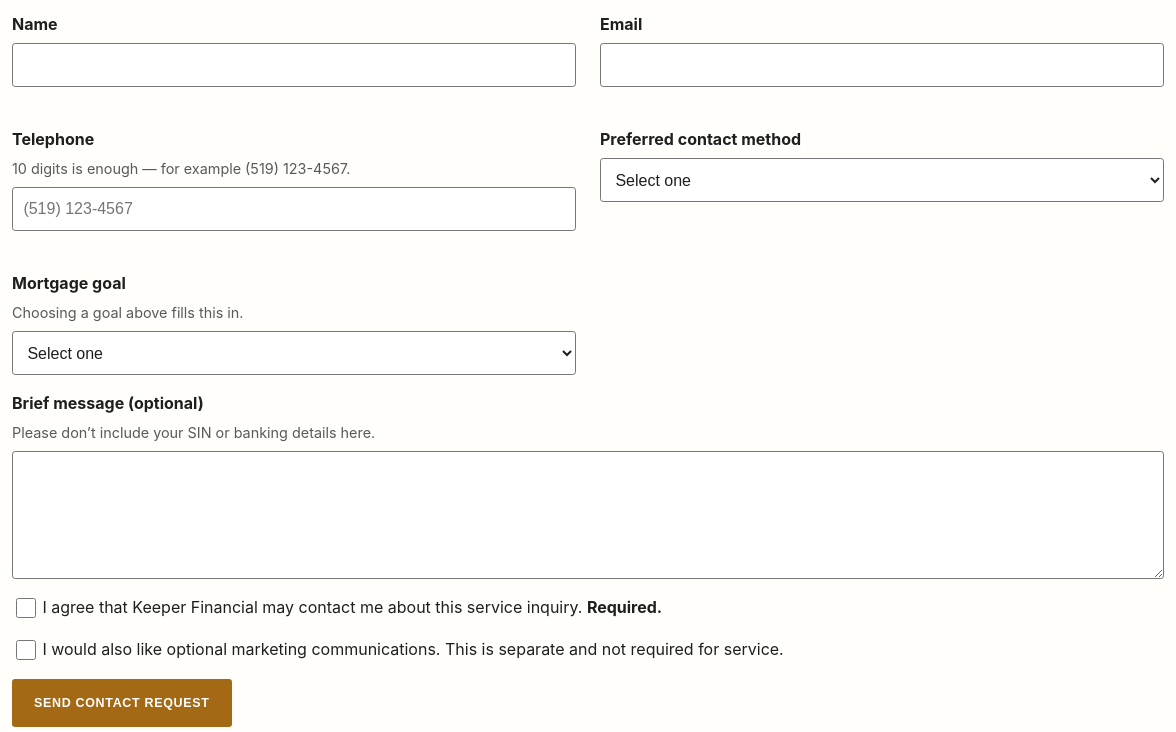
Test case: minimal contact form › preserves values and gives contact guidance on network failure
In the field labelled "Name": (294, 65) x1=12 y1=43 x2=576 y2=87, type "Synthetic Visitor"
In the field labelled "Email": (882, 65) x1=600 y1=43 x2=1164 y2=87, type "visitor@example.com"
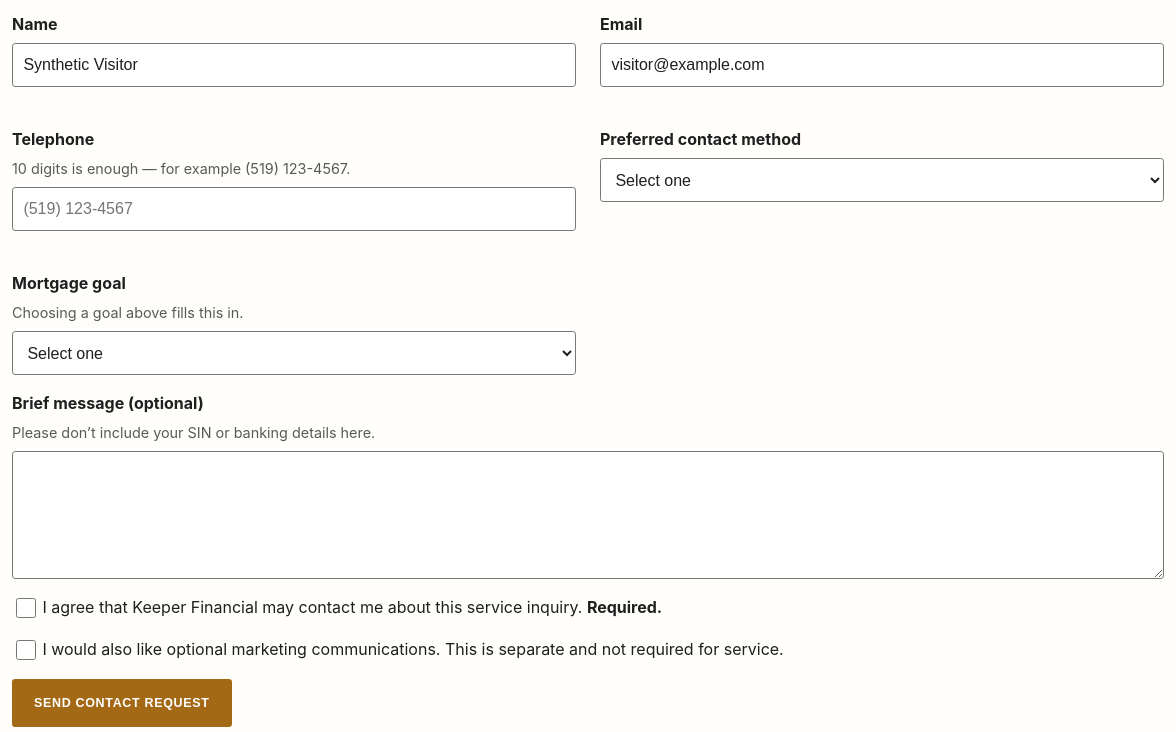
In the field labelled "Telephone": (294, 209) x1=12 y1=187 x2=576 y2=231, type "+1 416 555 0100"
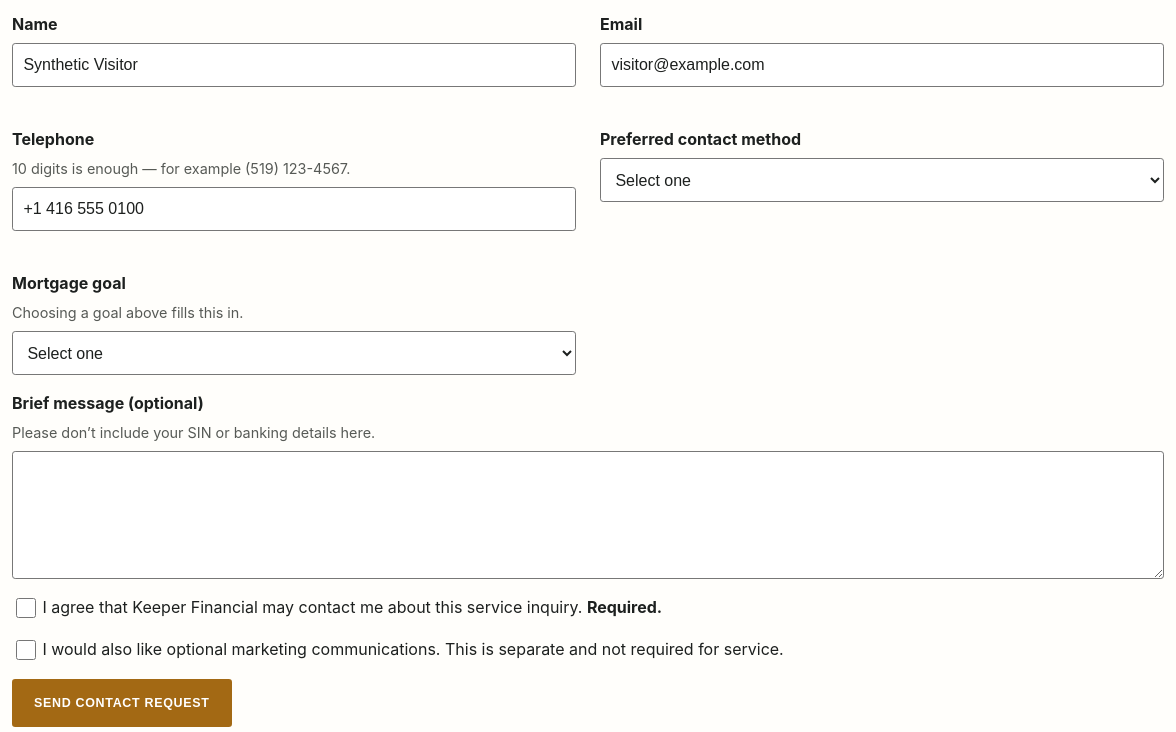
Select "Email" in the dropdown labelled "Preferred contact method": (882, 180) x1=600 y1=158 x2=1164 y2=202
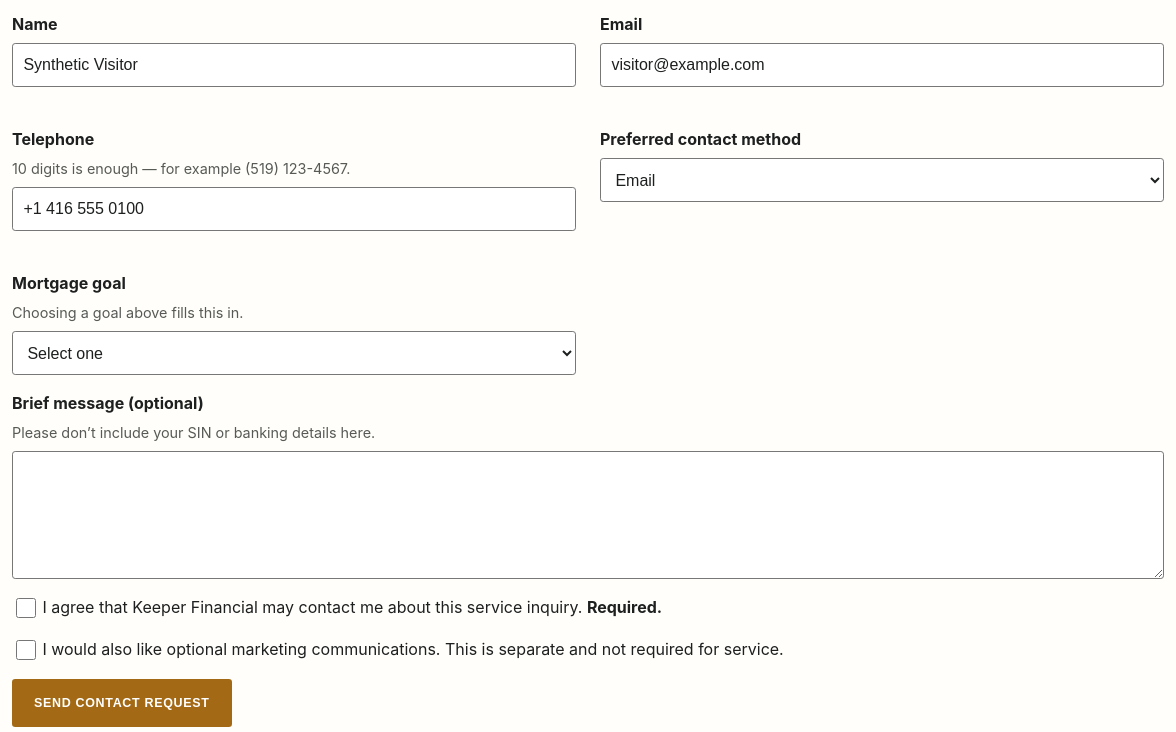
Select "Renewal" in the dropdown labelled "Mortgage goal": (294, 353) x1=12 y1=331 x2=576 y2=375
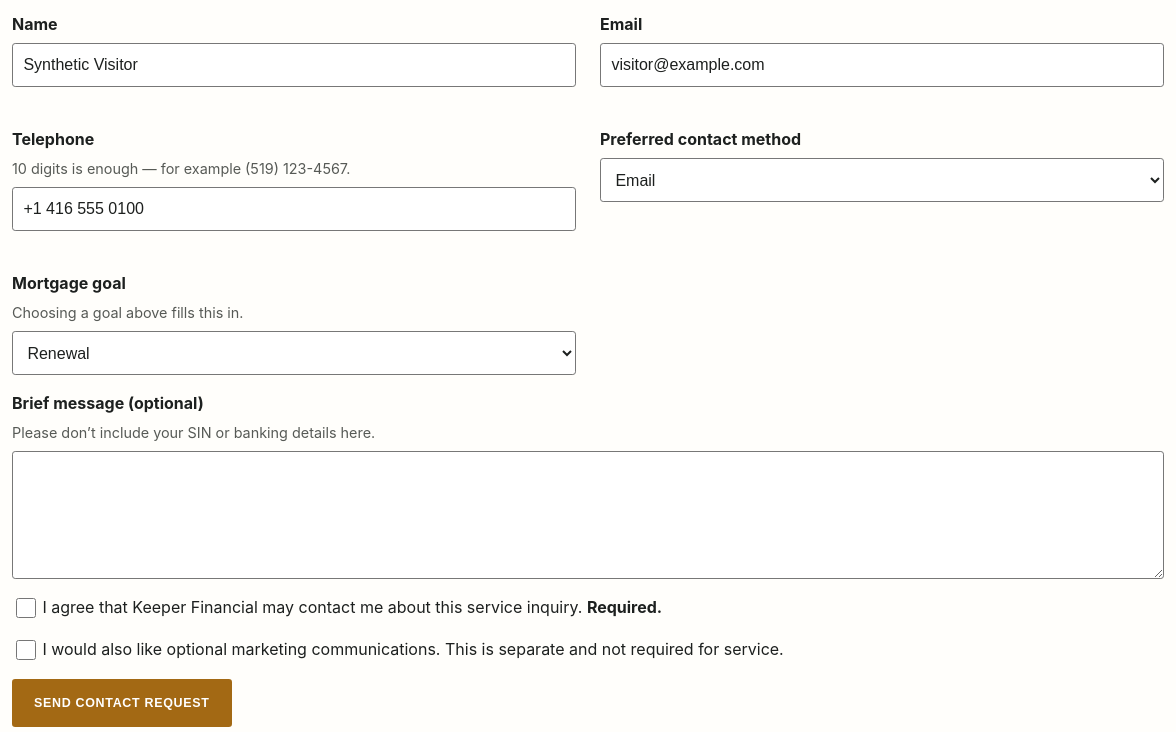
Click the checkbox labelled "I agree that Keeper Financial may contact me": (26, 608) x1=16 y1=598 x2=36 y2=618
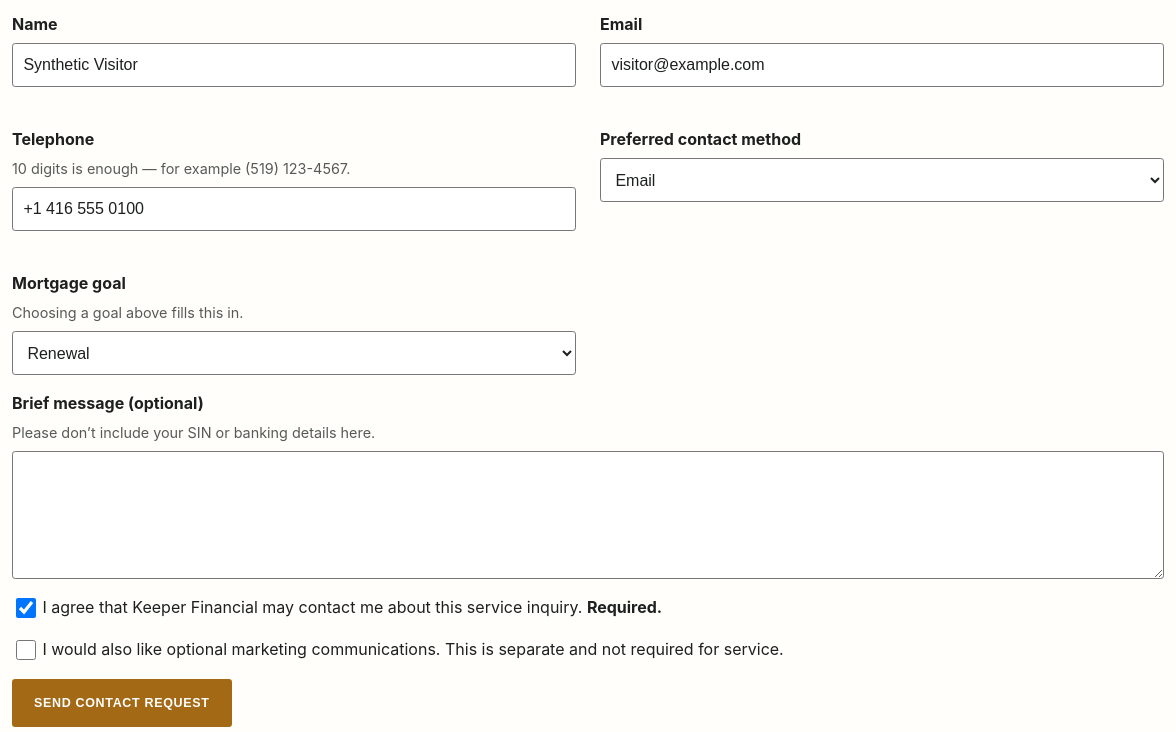
Submit the form
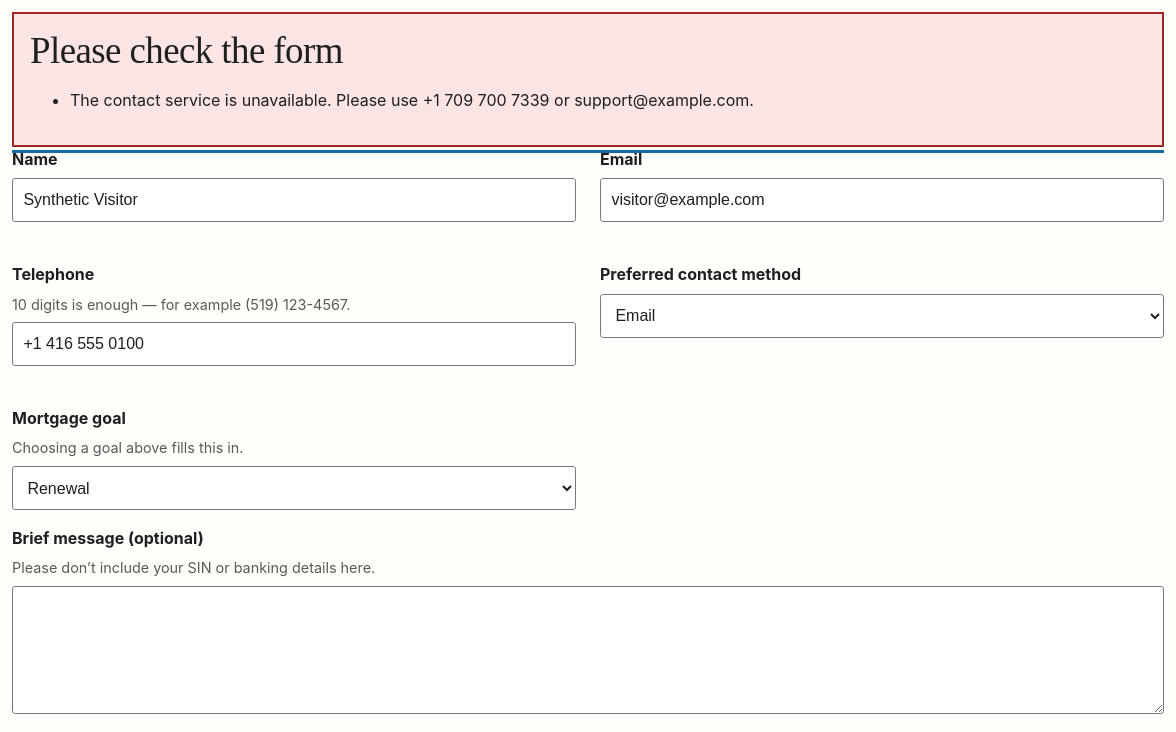
Expected: the message shows "+1 709 700 7339 or support@example.com", x1=70 y1=90 x2=754 y2=110
